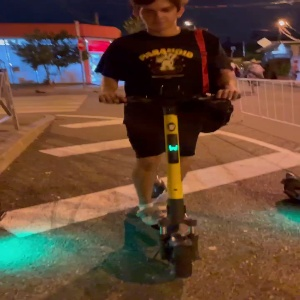human on a scooter: (92, 1, 243, 281)
